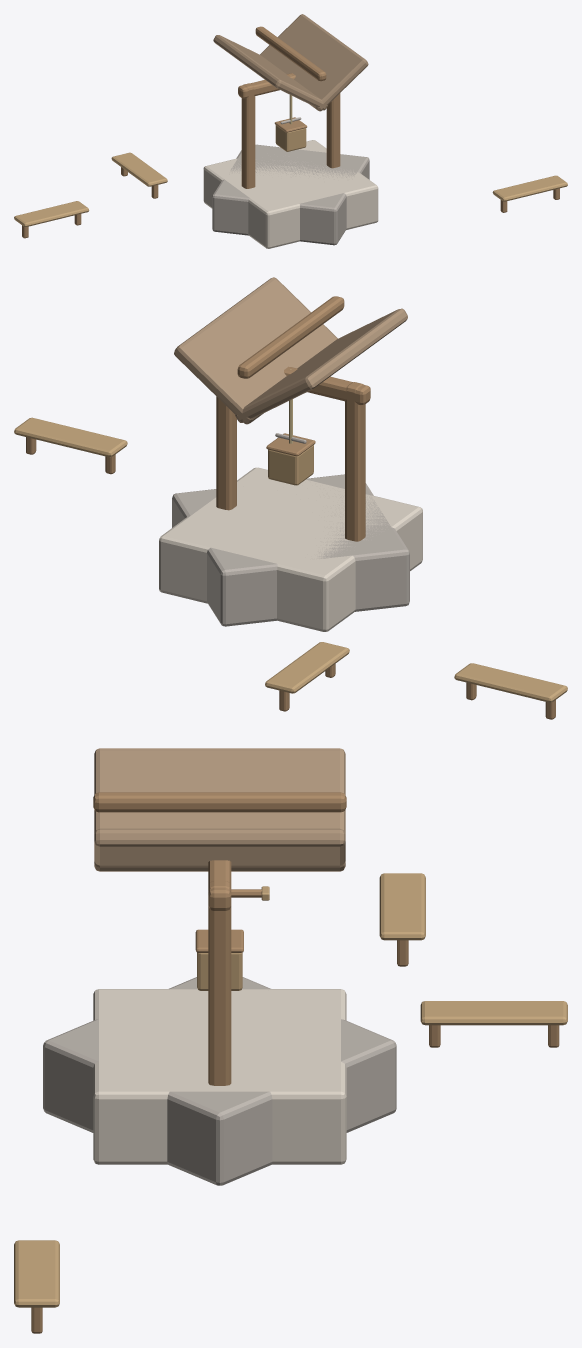
Rendered from well.glb.
3 renders of one model, top to bottom at view 1: azimuth 30°, elevation 25°; view 2: azimuth 150°, elevation 25°; view 3: azimuth 270°, elevation 25°, orthographic. The views are drawn at different scales.
Visible parts, largest first — view 1: Ring_0, Ring_1, Roof_R, Roof_L, Post_L, Post_R, Bench_E_Top, Bench_W_Top, Ridge, Bench_S_Top, Bucket_Body, Crossbeam; view 2: Ring_0, Ring_1, Roof_R, Roof_L, Post_L, Bench_E_Top, Bench_W_Top, Post_R, Ridge, Bench_S_Top, Bucket_Body, Crossbeam (+1 smaller); view 3: Ring_0, Ring_1, Roof_L, Roof_R, Ridge, Post_R, Bench_S_Top, Bench_W_Top, Bench_E_Top, Crossbeam, Bucket_Body.
Boxes of the visible parts, <box> form: Ring_0: <box>203,140,378,248</box>; Ring_1: <box>212,144,369,245</box>; Roof_R: <box>260,14,368,111</box>; Roof_L: <box>213,35,327,110</box>; Post_L: <box>241,83,255,188</box>; Post_R: <box>326,93,340,168</box>; Bench_E_Top: <box>492,175,567,201</box>; Bench_W_Top: <box>14,201,89,226</box>; Ridge: <box>255,26,326,81</box>; Bench_S_Top: <box>111,152,167,186</box>; Bucket_Body: <box>275,125,306,151</box>; Crossbeam: <box>238,73,295,98</box>; Ring_0: <box>159,467,422,631</box>; Ring_1: <box>172,474,409,626</box>; Roof_R: <box>174,277,337,424</box>; Roof_L: <box>235,308,407,422</box>; Post_L: <box>345,382,365,541</box>; Bench_E_Top: <box>14,417,127,457</box>; Bench_W_Top: <box>454,663,567,702</box>; Post_R: <box>216,396,236,510</box>; Ridge: <box>237,296,344,378</box>; Bench_S_Top: <box>265,642,349,693</box>; Bucket_Body: <box>268,445,313,485</box>; Crossbeam: <box>284,366,370,405</box>; Ring_0: <box>93,989,346,1164</box>; Ring_1: <box>43,977,396,1185</box>; Roof_L: <box>94,748,345,871</box>; Roof_R: <box>94,828,345,865</box>; Ridge: <box>93,792,346,812</box>; Post_R: <box>208,881,231,1085</box>; Bench_S_Top: <box>420,1001,567,1025</box>; Bench_W_Top: <box>379,873,425,940</box>; Bench_E_Top: <box>14,1240,59,1307</box>; Crossbeam: <box>208,860,231,910</box>; Bucket_Body: <box>197,952,242,990</box>.
Size of the model in its own units: 4.45 by 1.62 by 2.42.
